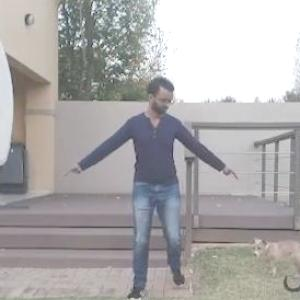land: (43, 78, 230, 299)
